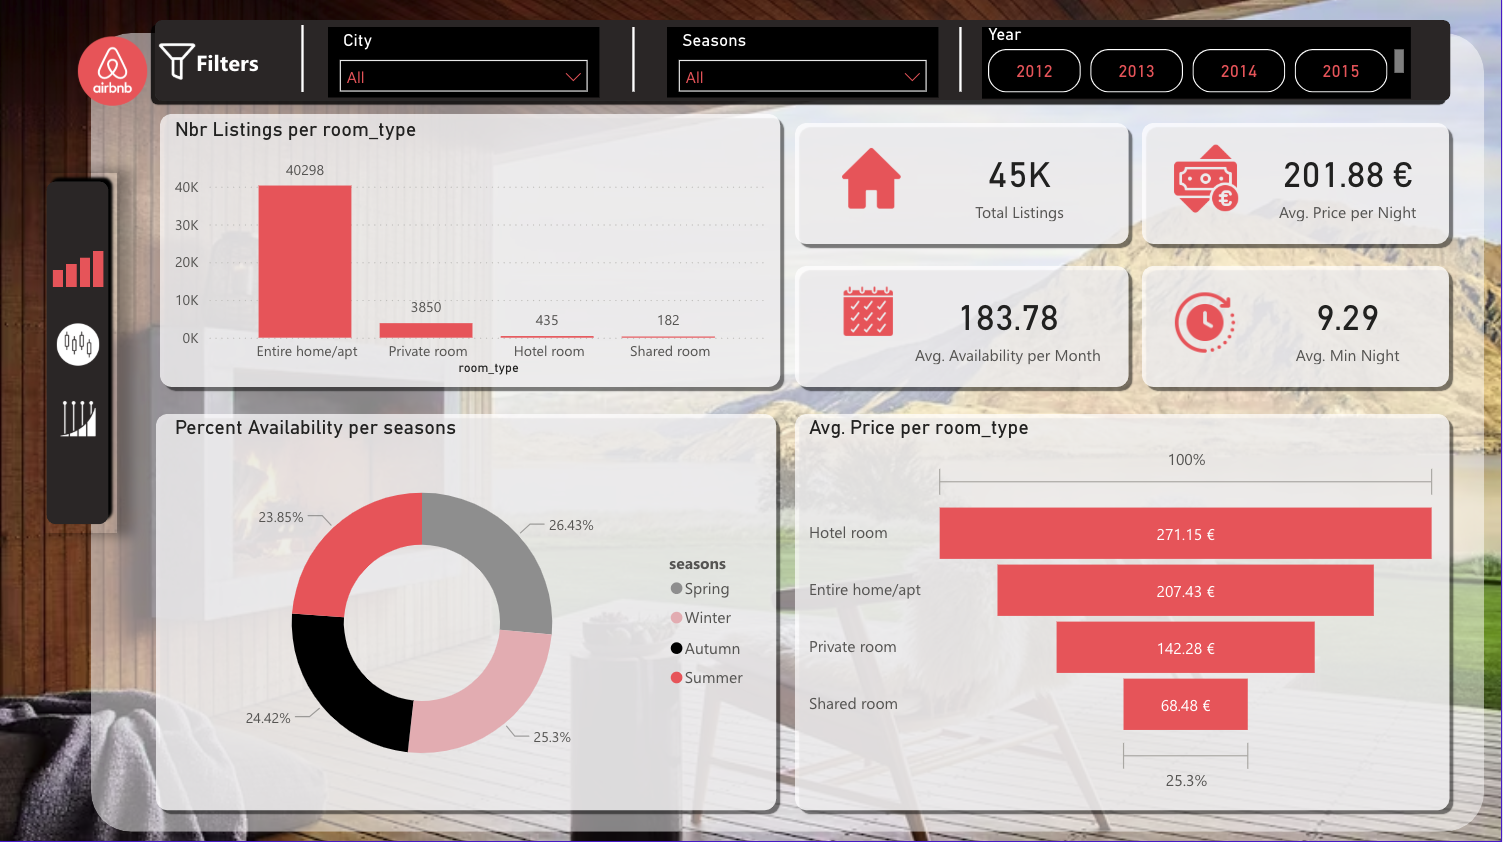

This screenshot's page, from the dashboard's own definition file:
{"tool":"powerbi","page":{"name":"Page 2","canvas":[1280,720],"ordinal":2},"visuals":[{"type":"shape","box":[78.8,31.1,1185.7,679.9],"z":0},{"type":"shape","box":[34,150.8,67.1,306.4],"z":1000},{"type":"image","box":[63.2,26.3,69.1,75.9],"z":2000},{"type":"shape","box":[128.4,15.6,1112.7,78.8],"z":3000},{"type":"textbox","box":[163.4,38.9,77.8,47.7],"z":4000},{"type":"image","box":[132.3,33.1,40.9,44.7],"z":5000},{"type":"shape","box":[230.5,24.3,57.4,57.4],"z":6000},{"type":"shape","box":[512.6,26.3,57.4,55.4],"z":7000},{"type":"image","box":[44.7,338.5,46.7,41.8],"z":10000},{"type":"shape","box":[128.4,94.3,539.8,605],"z":11000},{"type":"shape","box":[672.1,350.2,569,349.2],"z":12000},{"type":"shape","box":[672.1,102.1,569,248],"z":13000},{"type":"slicer","fields":{"Values":["listings.city"]},"box":[281.1,26.3,231.5,60.3],"z":14000},{"type":"slicer","fields":{"Values":["listings.seasons"]},"box":[569,26.3,231.5,60.3],"z":15000},{"type":"shape","box":[790.8,26.3,57.4,55.4],"z":16000},{"type":"advancedSlicerVisual","fields":{"Values":["listings.Year"]},"box":[837.4,26.3,364.7,61.3],"z":17000},{"type":"barChart","title":"Avg. Price per  city","fields":{"Category":["listings.city"],"Y":["Dates.Avg. Price per Night"]},"box":[140.1,107,572.9,576.8],"z":18000},{"type":"map","title":"Avg. Price per Night by Zone","fields":{"Y":["listings.latitude"],"X":["listings.longitude"],"Size":["Dates.Avg. Price per Night"]},"box":[684.7,359.9,544.7,331.7],"z":19000},{"type":"areaChart","fields":{"Category":["listings.room_type"],"Y":["Dates.Avg. Price per Night"],"Y2":["CountNonNull(listings.city)"]},"box":[684.7,111.9,556.4,238.3],"z":20000},{"type":"image","box":[37,272.3,61.3,46.7],"z":20001},{"type":"image","box":[44.7,209.1,50.6,43.8],"z":20002}]}

Visuals, with their boxes in screenshot pixels (x1, y1, x2, y2), scaled from the page's 1280x720 canvas onto the 1503x842 screenshot:
shape: BBox(93, 36, 1485, 831)
shape: BBox(40, 176, 119, 535)
image: BBox(74, 31, 155, 120)
shape: BBox(151, 18, 1457, 110)
textbox: BBox(192, 45, 283, 101)
image: BBox(155, 39, 203, 91)
shape: BBox(271, 28, 338, 96)
shape: BBox(602, 31, 669, 96)
image: BBox(52, 396, 107, 445)
shape: BBox(151, 110, 785, 818)
shape: BBox(789, 410, 1457, 818)
shape: BBox(789, 119, 1457, 409)
slicer - listings.city: BBox(330, 31, 602, 101)
slicer - listings.seasons: BBox(668, 31, 940, 101)
shape: BBox(929, 31, 996, 96)
advancedSlicerVisual - listings.Year: BBox(983, 31, 1412, 102)
"Avg. Price per  city" barChart: BBox(165, 125, 837, 800)
"Avg. Price per Night by Zone" map: BBox(804, 421, 1444, 809)
areaChart - listings.room_type x Dates.Avg. Price per Night: BBox(804, 131, 1457, 410)
image: BBox(43, 318, 115, 373)
image: BBox(52, 245, 112, 296)
